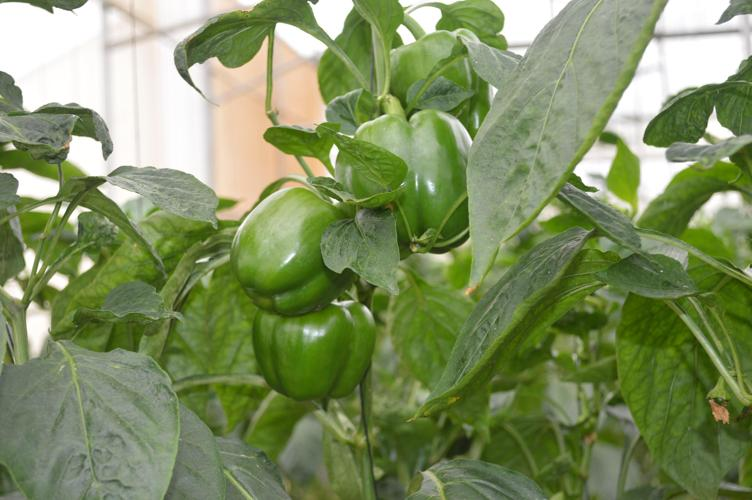BellPepper: (351, 111, 476, 251), (230, 191, 355, 310), (247, 301, 374, 397), (385, 29, 487, 121)
